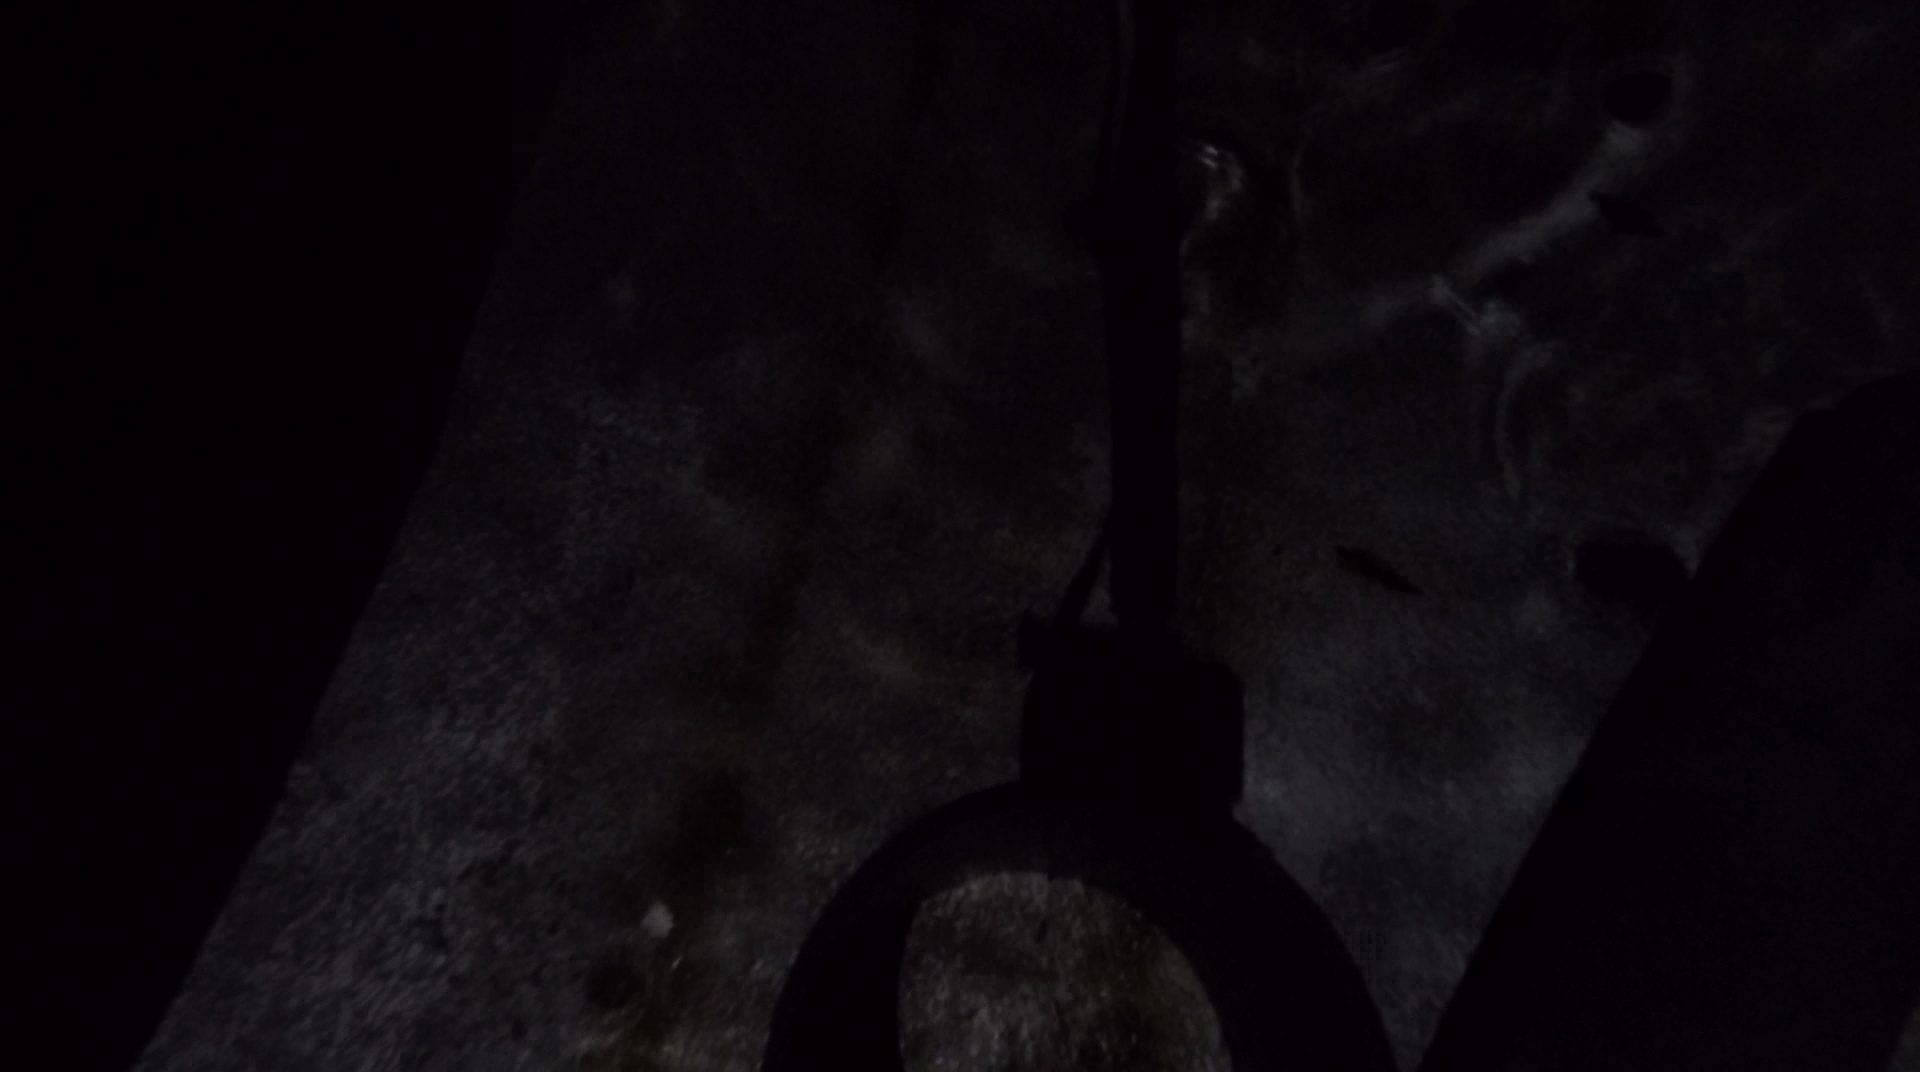pipe: (1416, 400, 1920, 1068), (762, 783, 1395, 1072)
